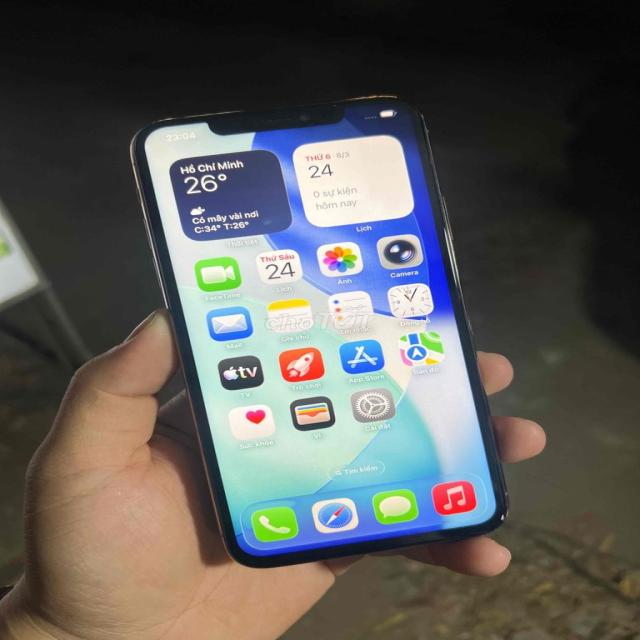gen_11: (125, 86, 512, 566)
